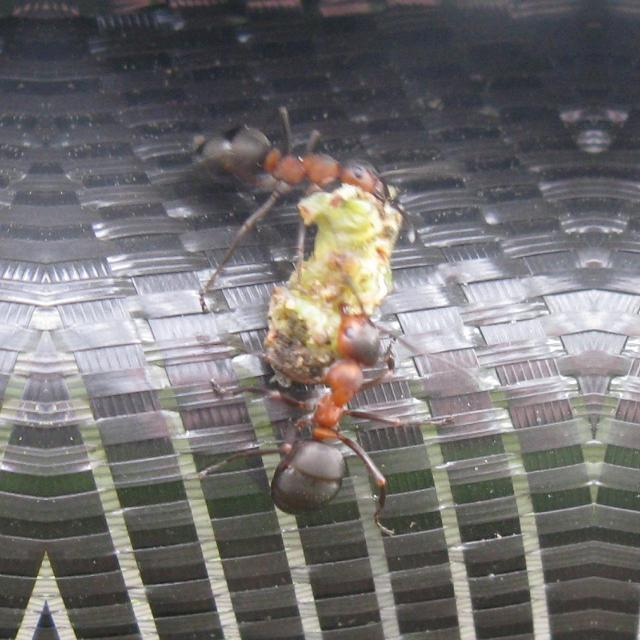Formica: (172, 94, 436, 262), (260, 279, 436, 521)
